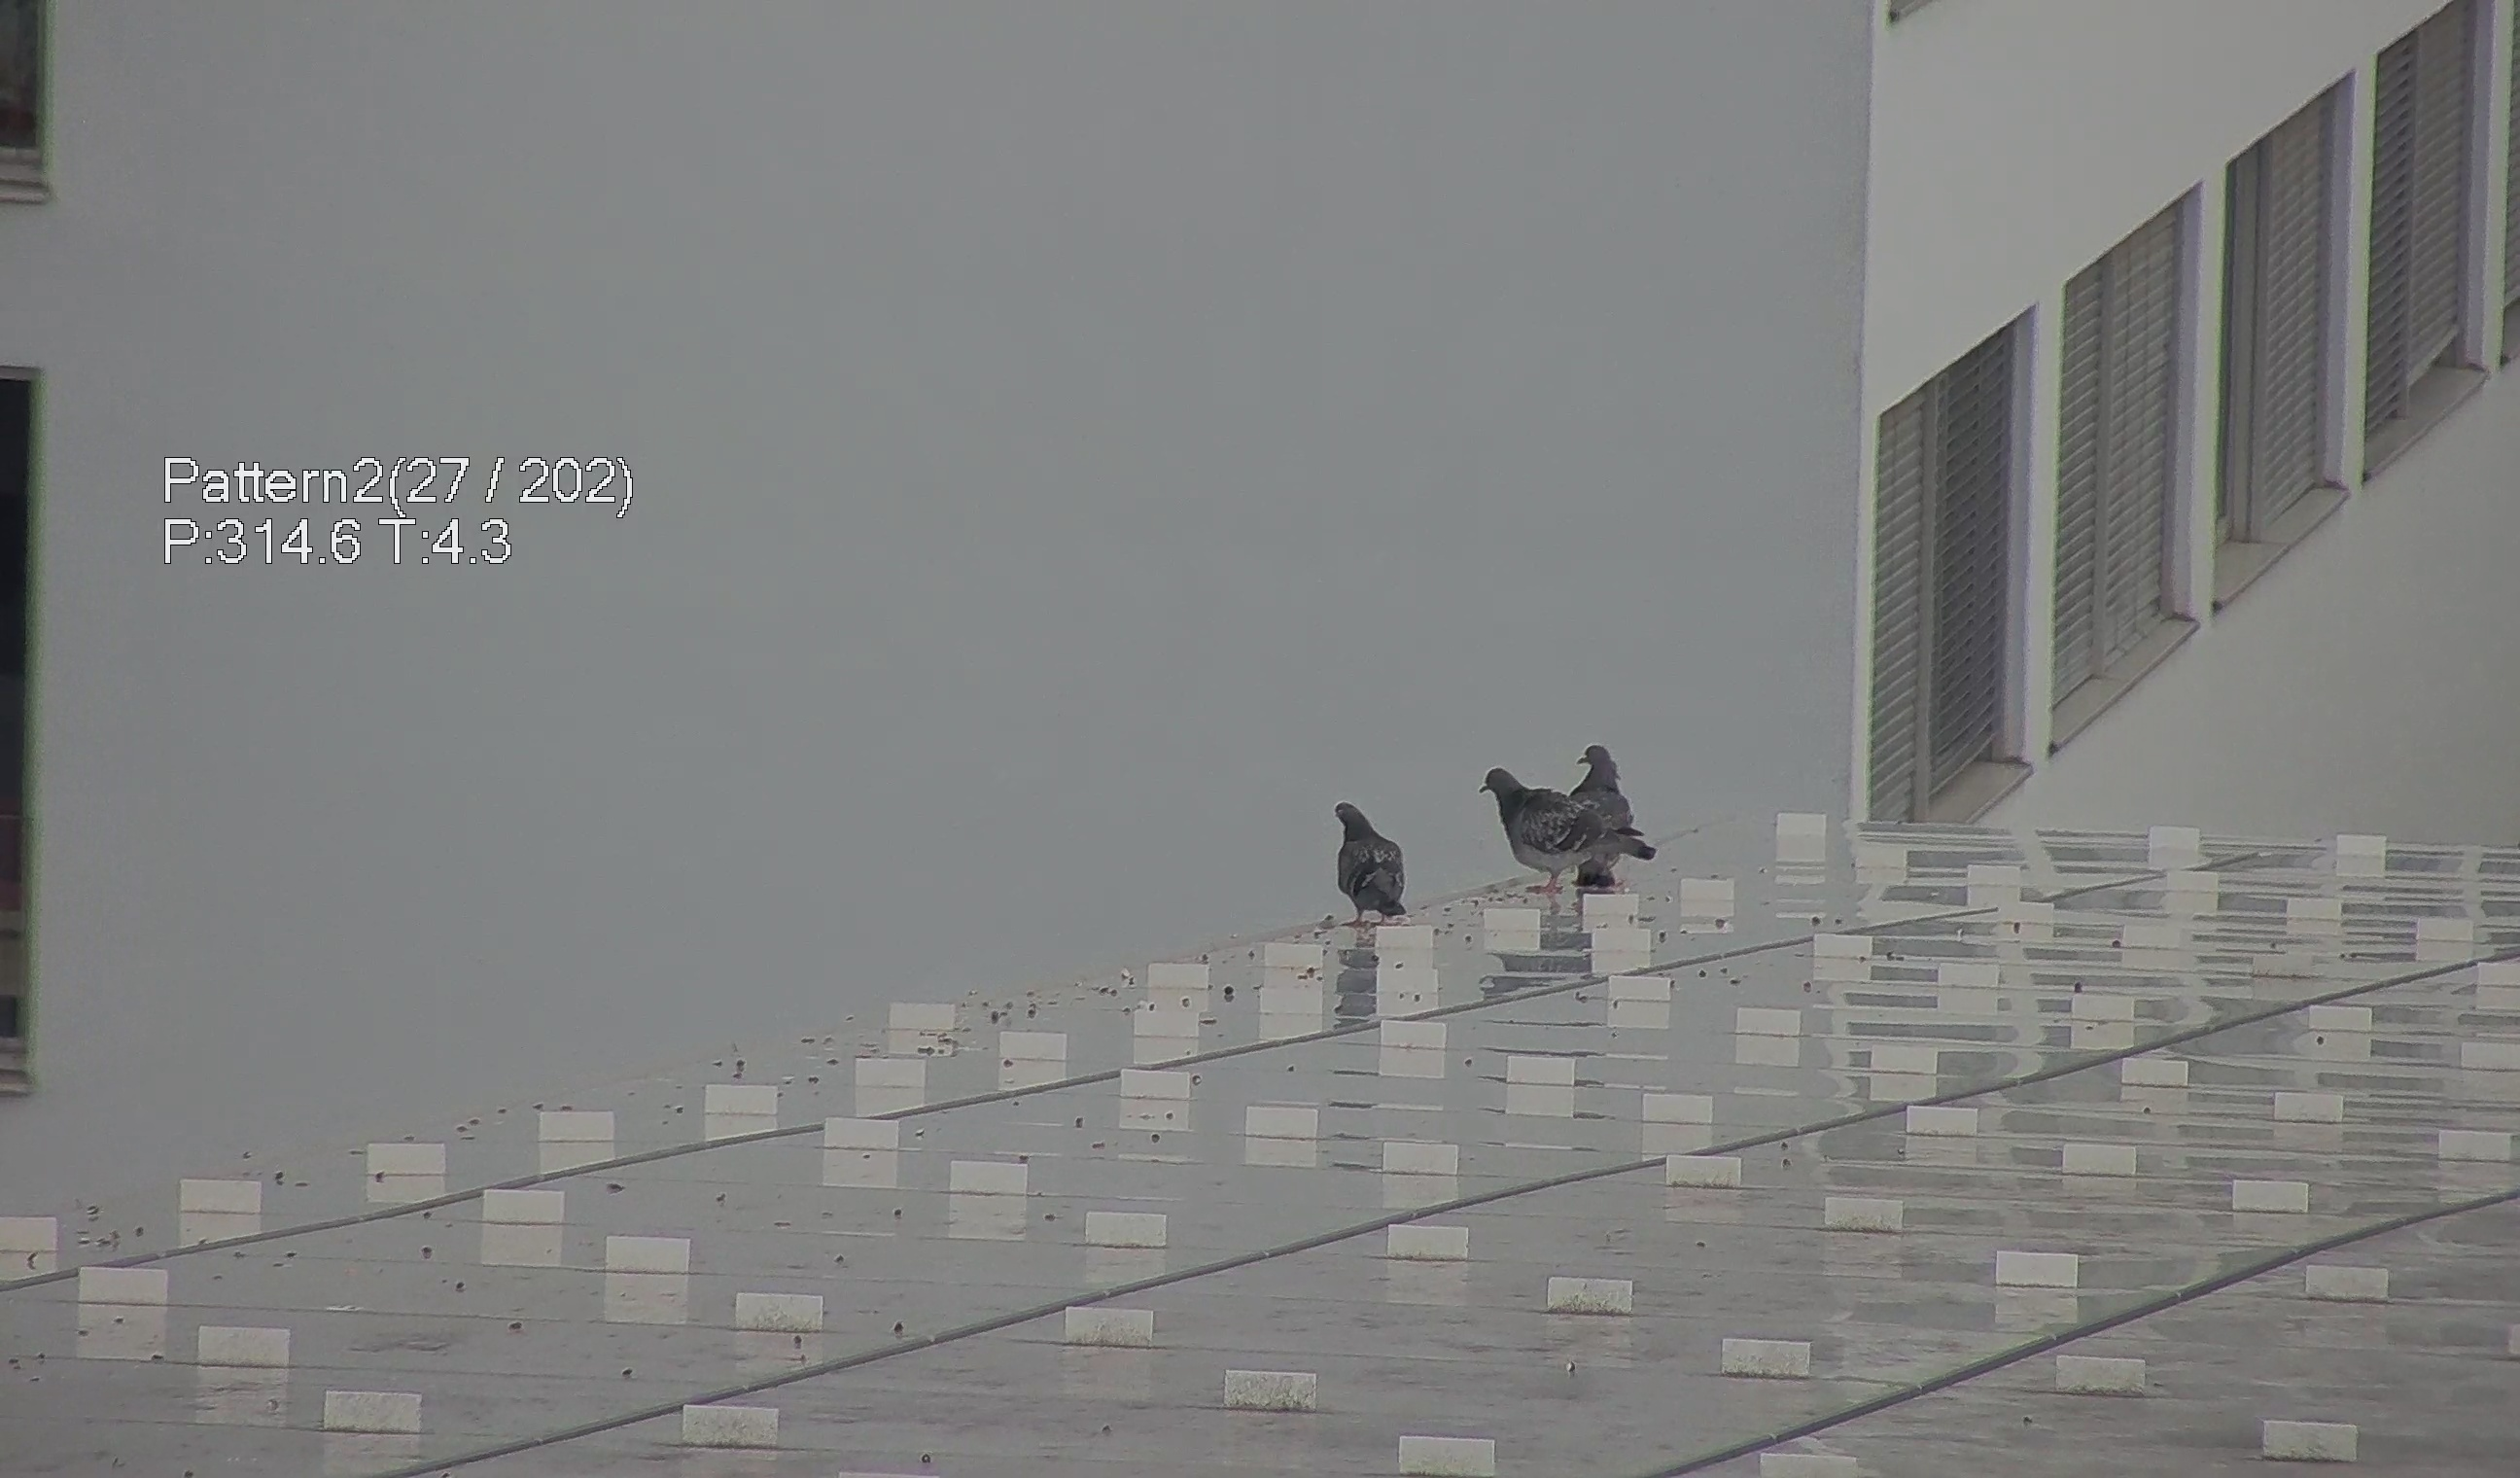Pigeon: (1470, 737, 1667, 892), (1322, 788, 1419, 926), (1567, 734, 1648, 820)
